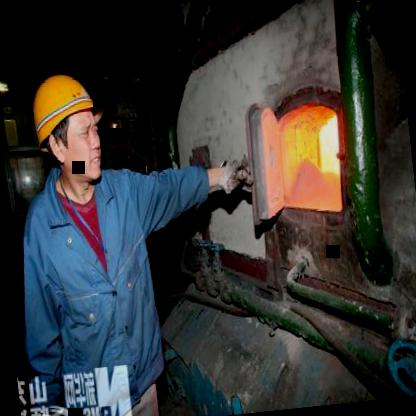helmet: (16, 55, 114, 196)
